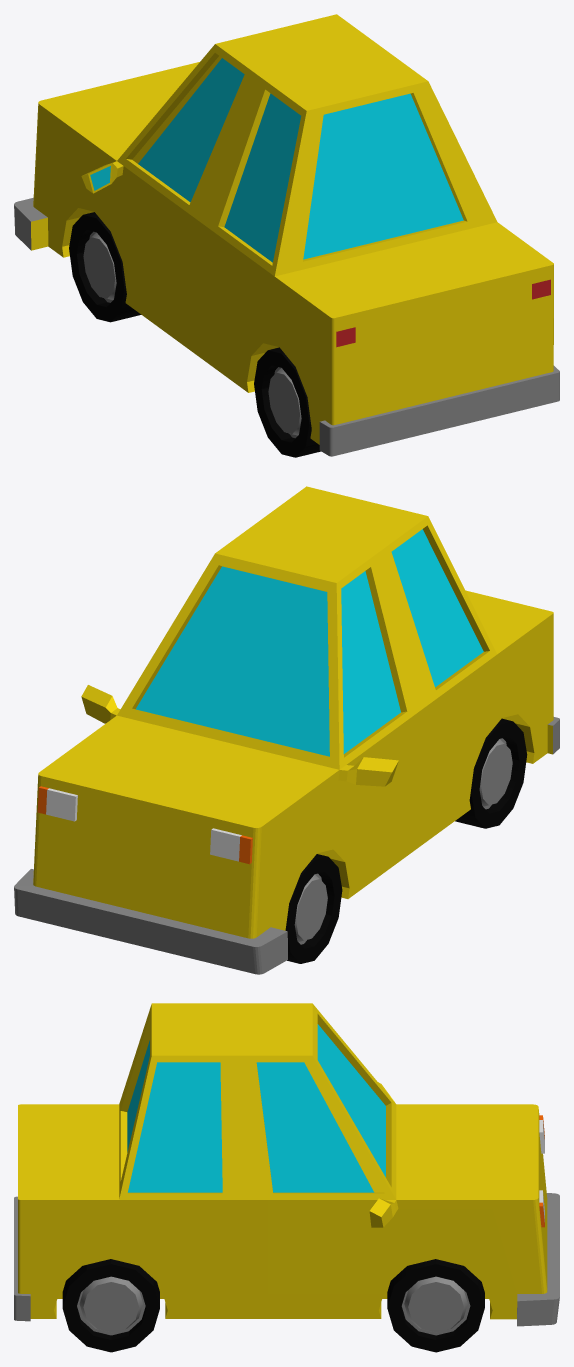
File: Carro.fbx
3 renders of one model, top to bottom at view 1: azimuth 30°, elevation 25°; view 2: azimuth 150°, elevation 25°; view 3: azimuth 270°, elevation 25°, orthographic. The views are drawn at different scales.
Parts seen in each view (by area): view 1: Chassi, Rodas; view 2: Chassi, Rodas; view 3: Chassi, Rodas.
Boxes of the visible parts, x1,y1,x2,y2 form: Chassi: (14, 14, 559, 456); Rodas: (69, 212, 320, 457); Chassi: (14, 486, 559, 974); Rodas: (285, 718, 527, 963); Chassi: (14, 1003, 559, 1326); Rodas: (62, 1259, 484, 1352).
Size of the model in its own units: 234 by 405 by 226.
